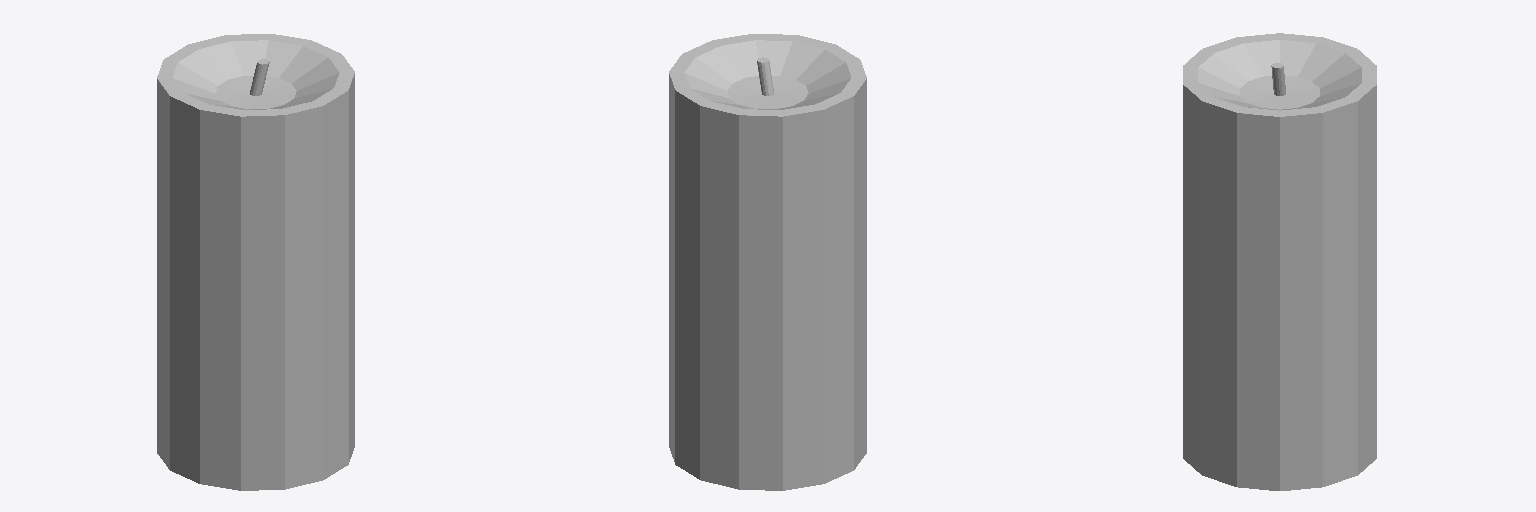
Rendered from Candle_001.obj.
3 renders of one model, left to right at view 1: azimuth 30°, elevation 25°; view 2: azimuth 150°, elevation 25°; view 3: azimuth 270°, elevation 25°, orthographic.
Parts seen in each view (by area): view 1: Candle_001 Candles; view 2: Candle_001 Candles; view 3: Candle_001 Candles.
Part boxes in pixels (x1,y1,x2,y2): Candle_001 Candles: (157, 34, 354, 490); Candle_001 Candles: (669, 34, 866, 490); Candle_001 Candles: (1183, 33, 1376, 490).
Size of the model in its own units: 7.45 by 16 by 7.26.